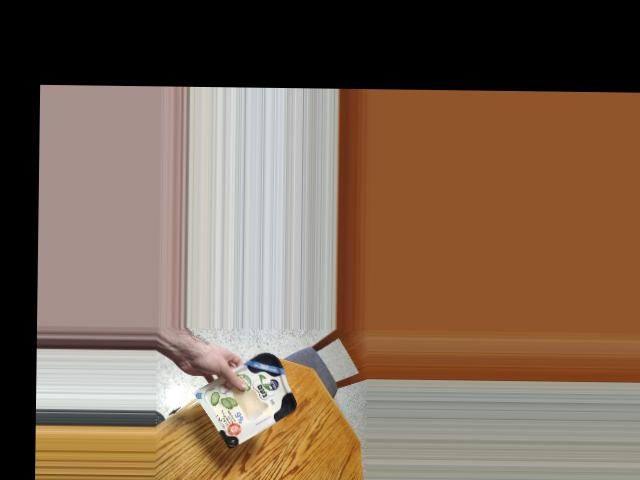cheese: (207, 351, 304, 441)
